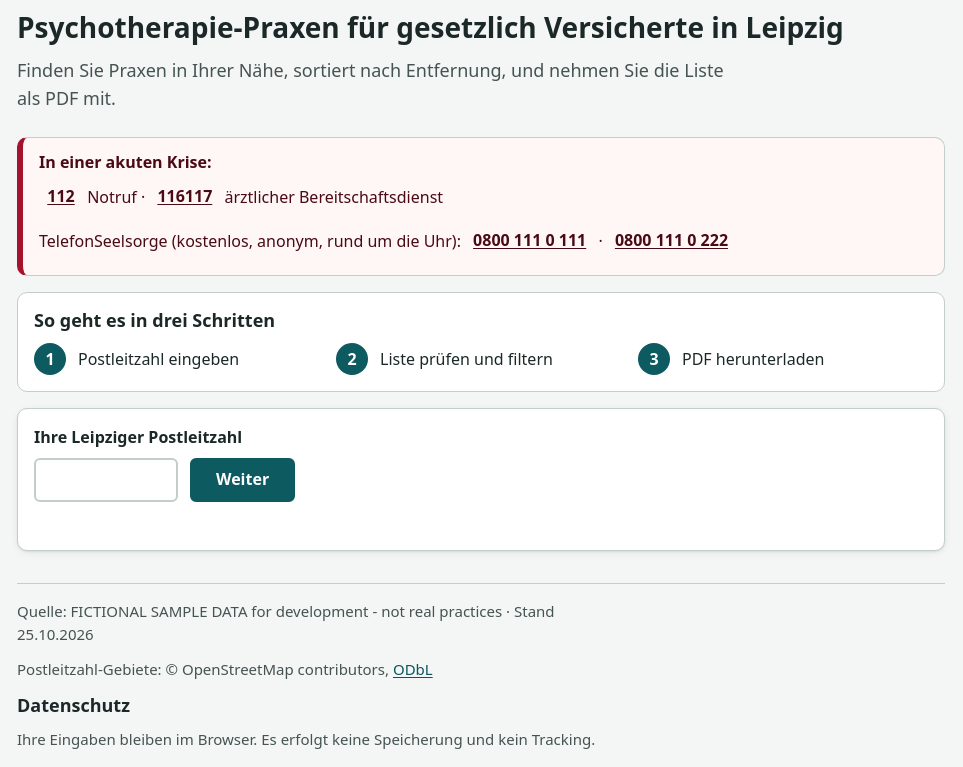
Test: PLZ input › shows an error for an invalid PLZ
The width and height of the screenshot is (963, 767).
Type "01067" into the field labelled "Ihre Leipziger Postleitzahl" at (106, 480), box [34,458,178,502]
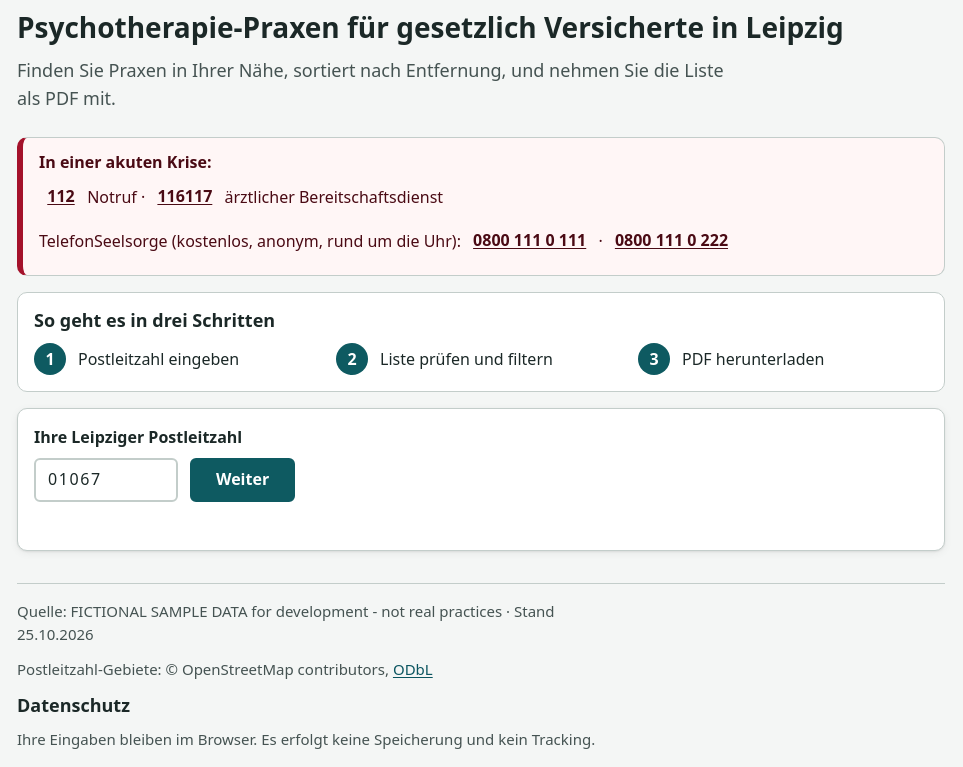
Click the button "Weiter" at (243, 480), box [190,458,295,502]
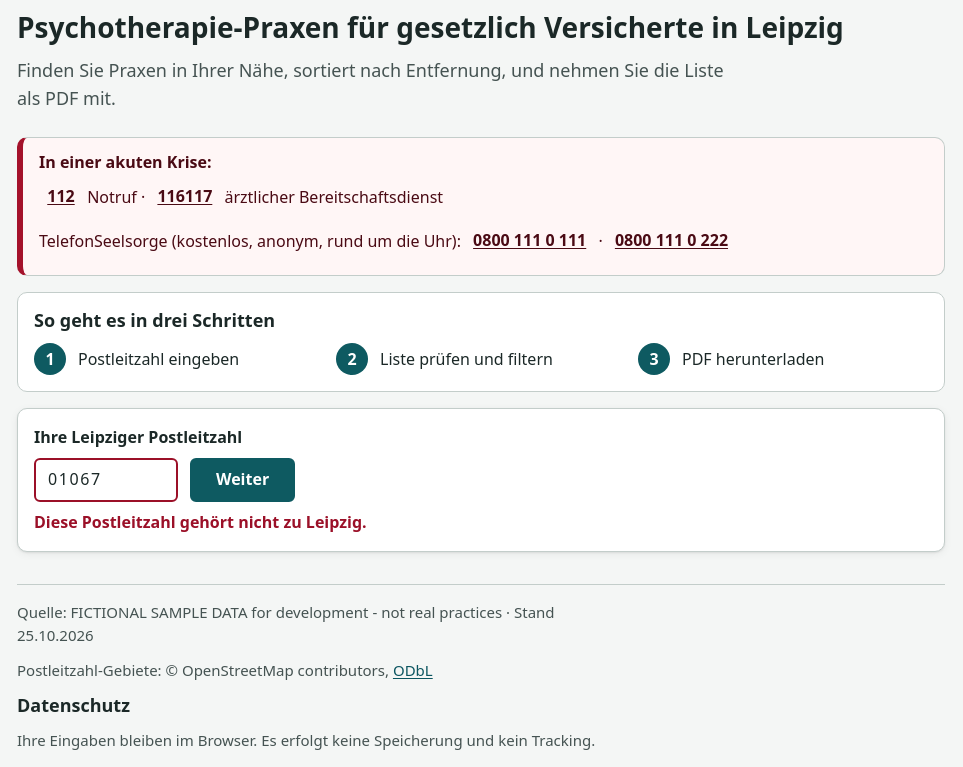
Now the message shows "nicht zu Leipzig", box [34,511,367,533]
